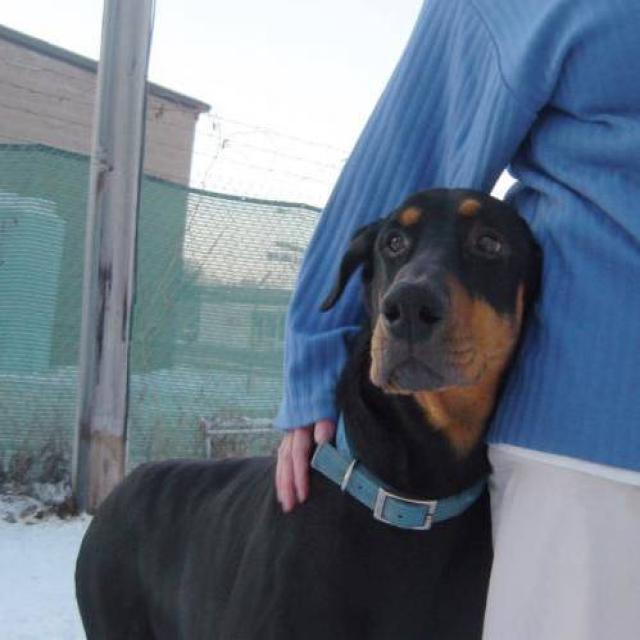dog: (73, 184, 544, 638)
